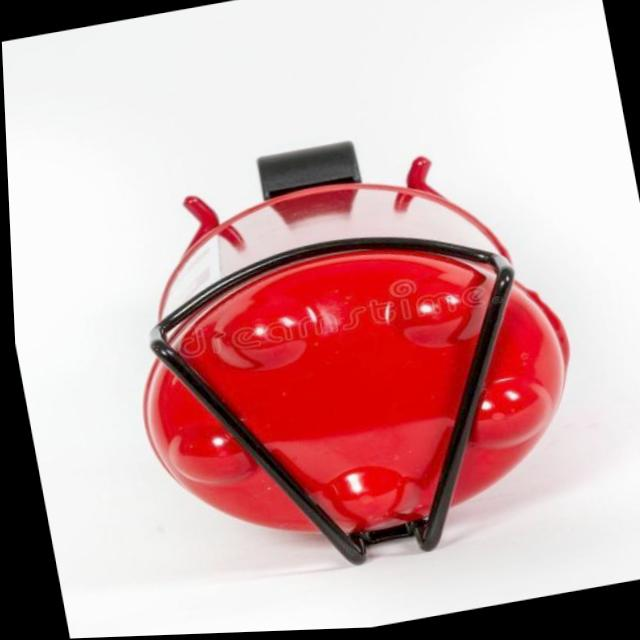FireExtinguisher: (102, 192, 598, 577)
